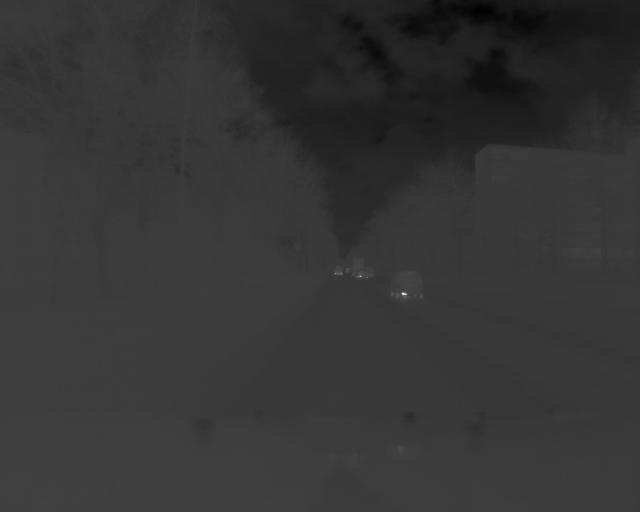car: (391, 270, 425, 303)
